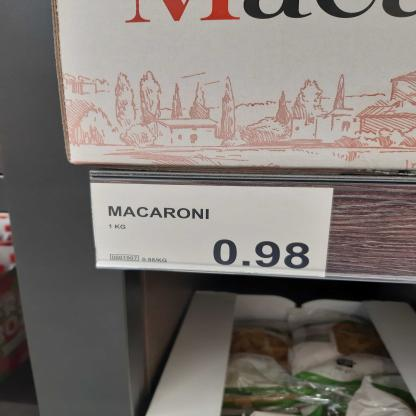prtg: (91, 185, 334, 278)
